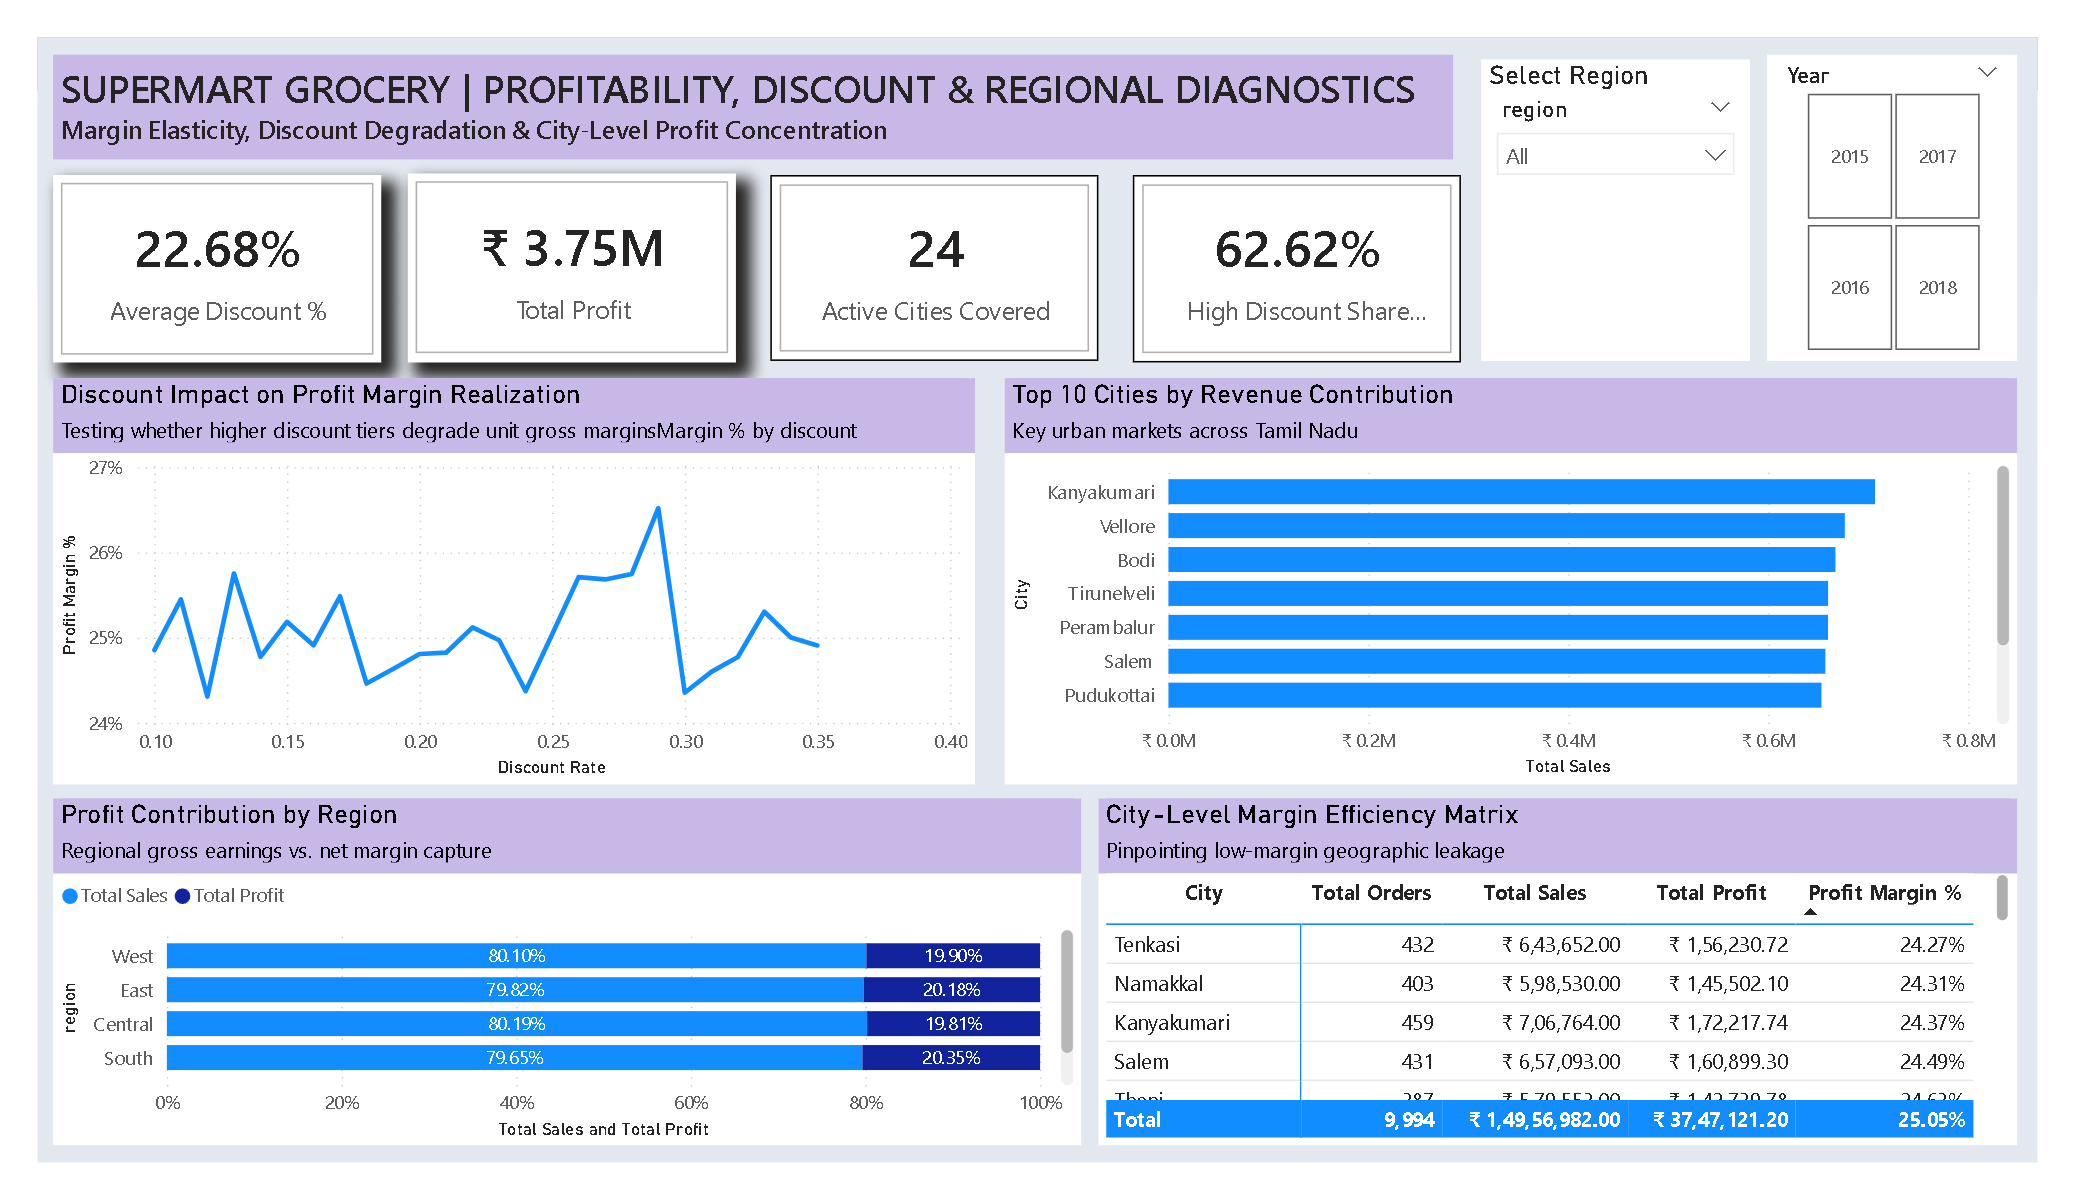

This screenshot's page, from the dashboard's own definition file:
{"tool":"powerbi","page":{"name":"Profit & Regional Diagnostics","canvas":[1280,720],"ordinal":1},"visuals":[{"type":"textbox","box":[9.6,11,896.1,67.2],"z":0},{"type":"slicer","fields":{"Values":["Dim_Date.Year"]},"box":[1107.4,11,159.2,196.2],"z":1000},{"type":"slicer","title":"Select Region","fields":{"Values":["supermart_sales.region"]},"box":[923.5,13.7,172.9,193.5],"z":2000},{"type":"cardVisual","fields":{"Data":["_Measures.Average Discount %"]},"box":[9.6,87.8,210,120],"z":3000},{"type":"cardVisual","fields":{"Data":["_Measures.Total Profit"]},"box":[237.4,87,210,120.8],"z":4000},{"type":"cardVisual","fields":{"Data":["Count(supermart_sales.city)"]},"box":[469.3,87.8,210,119.4],"z":5000},{"type":"cardVisual","fields":{"Data":["_Measures.High Discount Orders %"]},"box":[701.2,87.8,210,120],"z":6000},{"type":"lineChart","title":"Discount Impact on Profit Margin Realization","fields":{"Category":["supermart_sales.discount"],"Y":["_Measures.Profit Margin %"]},"box":[9.6,218.2,590.1,259.3],"z":7000},{"type":"hundredPercentStackedBarChart","title":"Profit Contribution by Region","fields":{"Category":["supermart_sales.region"],"Y":["_Measures.Total Sales","_Measures.Total Profit"]},"box":[9.6,487.1,658.7,222.3],"z":8000},{"type":"clusteredBarChart","title":"Top 10 Cities by Revenue Contribution","fields":{"Category":["supermart_sales.city"],"Y":["_Measures.Total Sales"]},"box":[618.9,218.2,647.7,259.3],"z":9000},{"type":"pivotTable","title":"City-Level Margin Efficiency Matrix","fields":{"Rows":["supermart_sales.city"],"Values":["_Measures.Total Orders","_Measures.Total Sales","_Measures.Total Profit","_Measures.Profit Margin %"]},"box":[679.2,487.1,587.3,222.3],"z":10000}]}

Visuals, with their boxes on the page's 1280x720 design canvas (x1, y1, x2, y2). These are canvas units, not pixel positions in the 2075x1200 screenshot, which may show the page scaled, cropped or inside an application window:
textbox: 10, 11, 906, 78
slicer - Dim_Date.Year: 1107, 11, 1267, 207
"Select Region" slicer: 924, 14, 1096, 207
cardVisual - _Measures.Average Discount %: 10, 88, 220, 208
cardVisual - _Measures.Total Profit: 237, 87, 447, 208
cardVisual - Count(supermart_sales.city): 469, 88, 679, 207
cardVisual - _Measures.High Discount Orders %: 701, 88, 911, 208
"Discount Impact on Profit Margin Realization" lineChart: 10, 218, 600, 478
"Profit Contribution by Region" hundredPercentStackedBarChart: 10, 487, 668, 709
"Top 10 Cities by Revenue Contribution" clusteredBarChart: 619, 218, 1267, 478
"City-Level Margin Efficiency Matrix" pivotTable: 679, 487, 1266, 709
